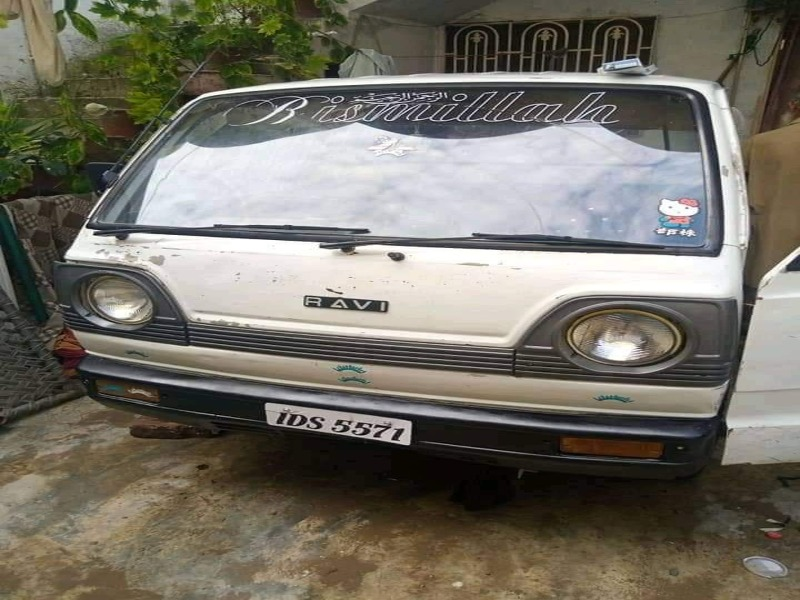License Plate: (262, 395, 420, 453)
